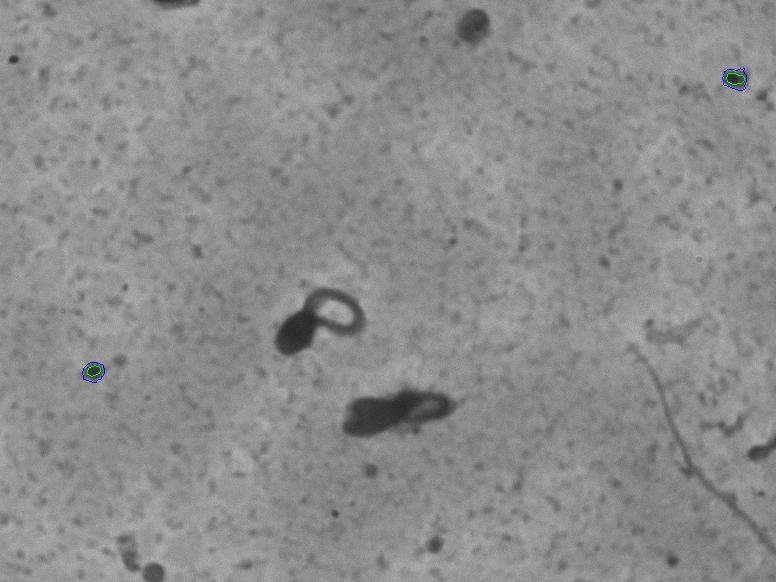Abnormal: (257, 255, 383, 369), (317, 367, 465, 458)
